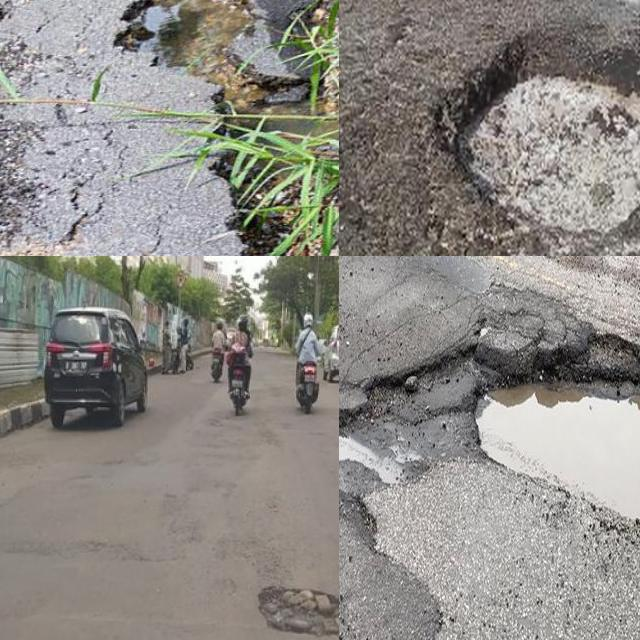Lubang: (433, 34, 640, 246), (474, 338, 640, 517), (252, 577, 339, 640)
Pinggir: (108, 0, 339, 256)
